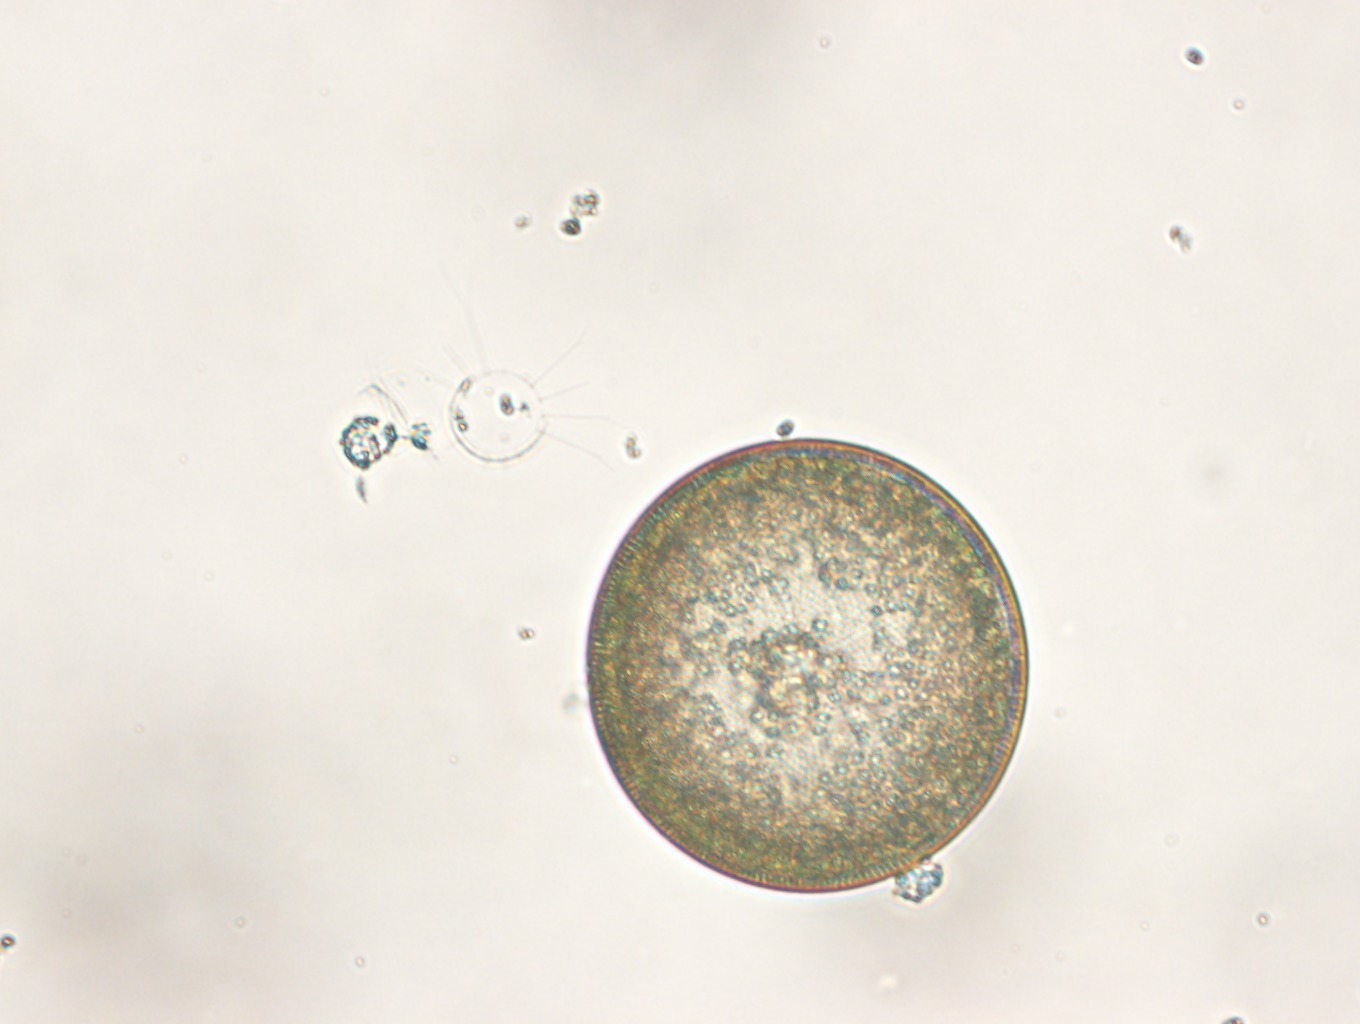coscinodiscus: (583, 435, 1029, 893)
